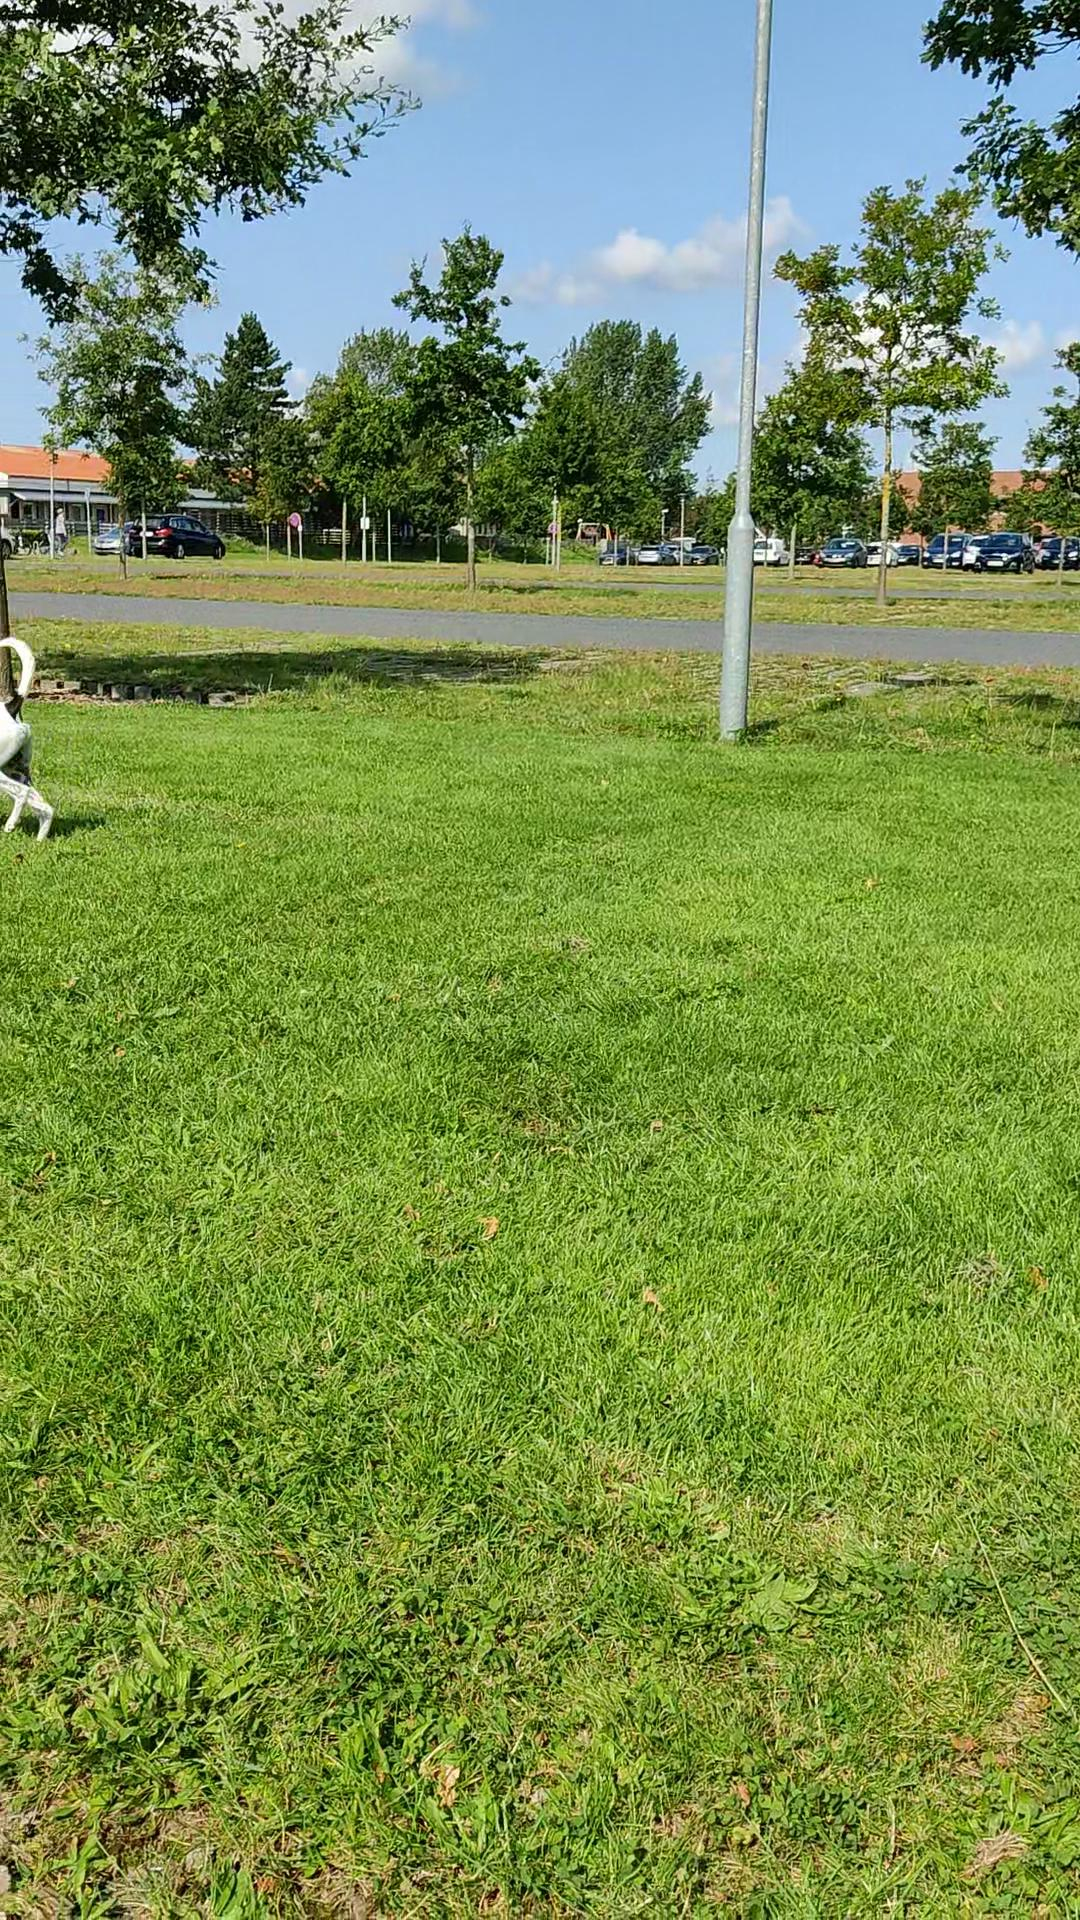Dog: (7, 620, 61, 862)
